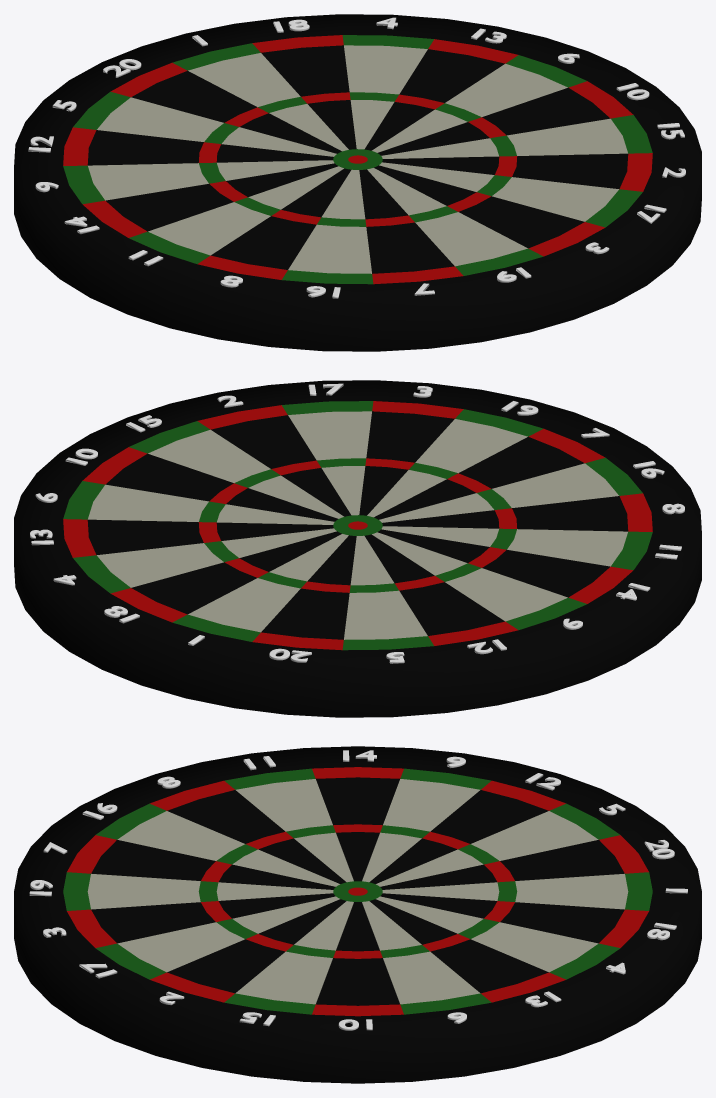
Rendered from dartboard.fbx.
3 views of the same model, one above another, from view 1: azimuth 30°, elevation 25°; view 2: azimuth 150°, elevation 25°; view 3: azimuth 270°, elevation 25° (orthographic).
Parts seen in each view (by area): view 1: black, white, green, red, green_bull; view 2: black, white, green, red, green_bull; view 3: black, white, red, green, green_bull.
Boxes of the visible parts, box(x1,y1,x2,y2) form: black: box(14, 14, 701, 351); white: box(88, 45, 627, 273); green: box(63, 35, 652, 284); red: box(63, 35, 652, 284); green_bull: box(333, 149, 382, 169); black: box(14, 380, 701, 717); white: box(88, 411, 627, 639); green: box(63, 401, 652, 650); red: box(63, 401, 652, 650); green_bull: box(333, 515, 382, 535); black: box(14, 746, 701, 1083); white: box(87, 779, 628, 1004); red: box(67, 767, 648, 1016); green: box(63, 768, 652, 1014); green_bull: box(333, 881, 382, 901).
Size of the model in its own units: 402 by 31.86 by 402.
4 materials, 4 textured.
